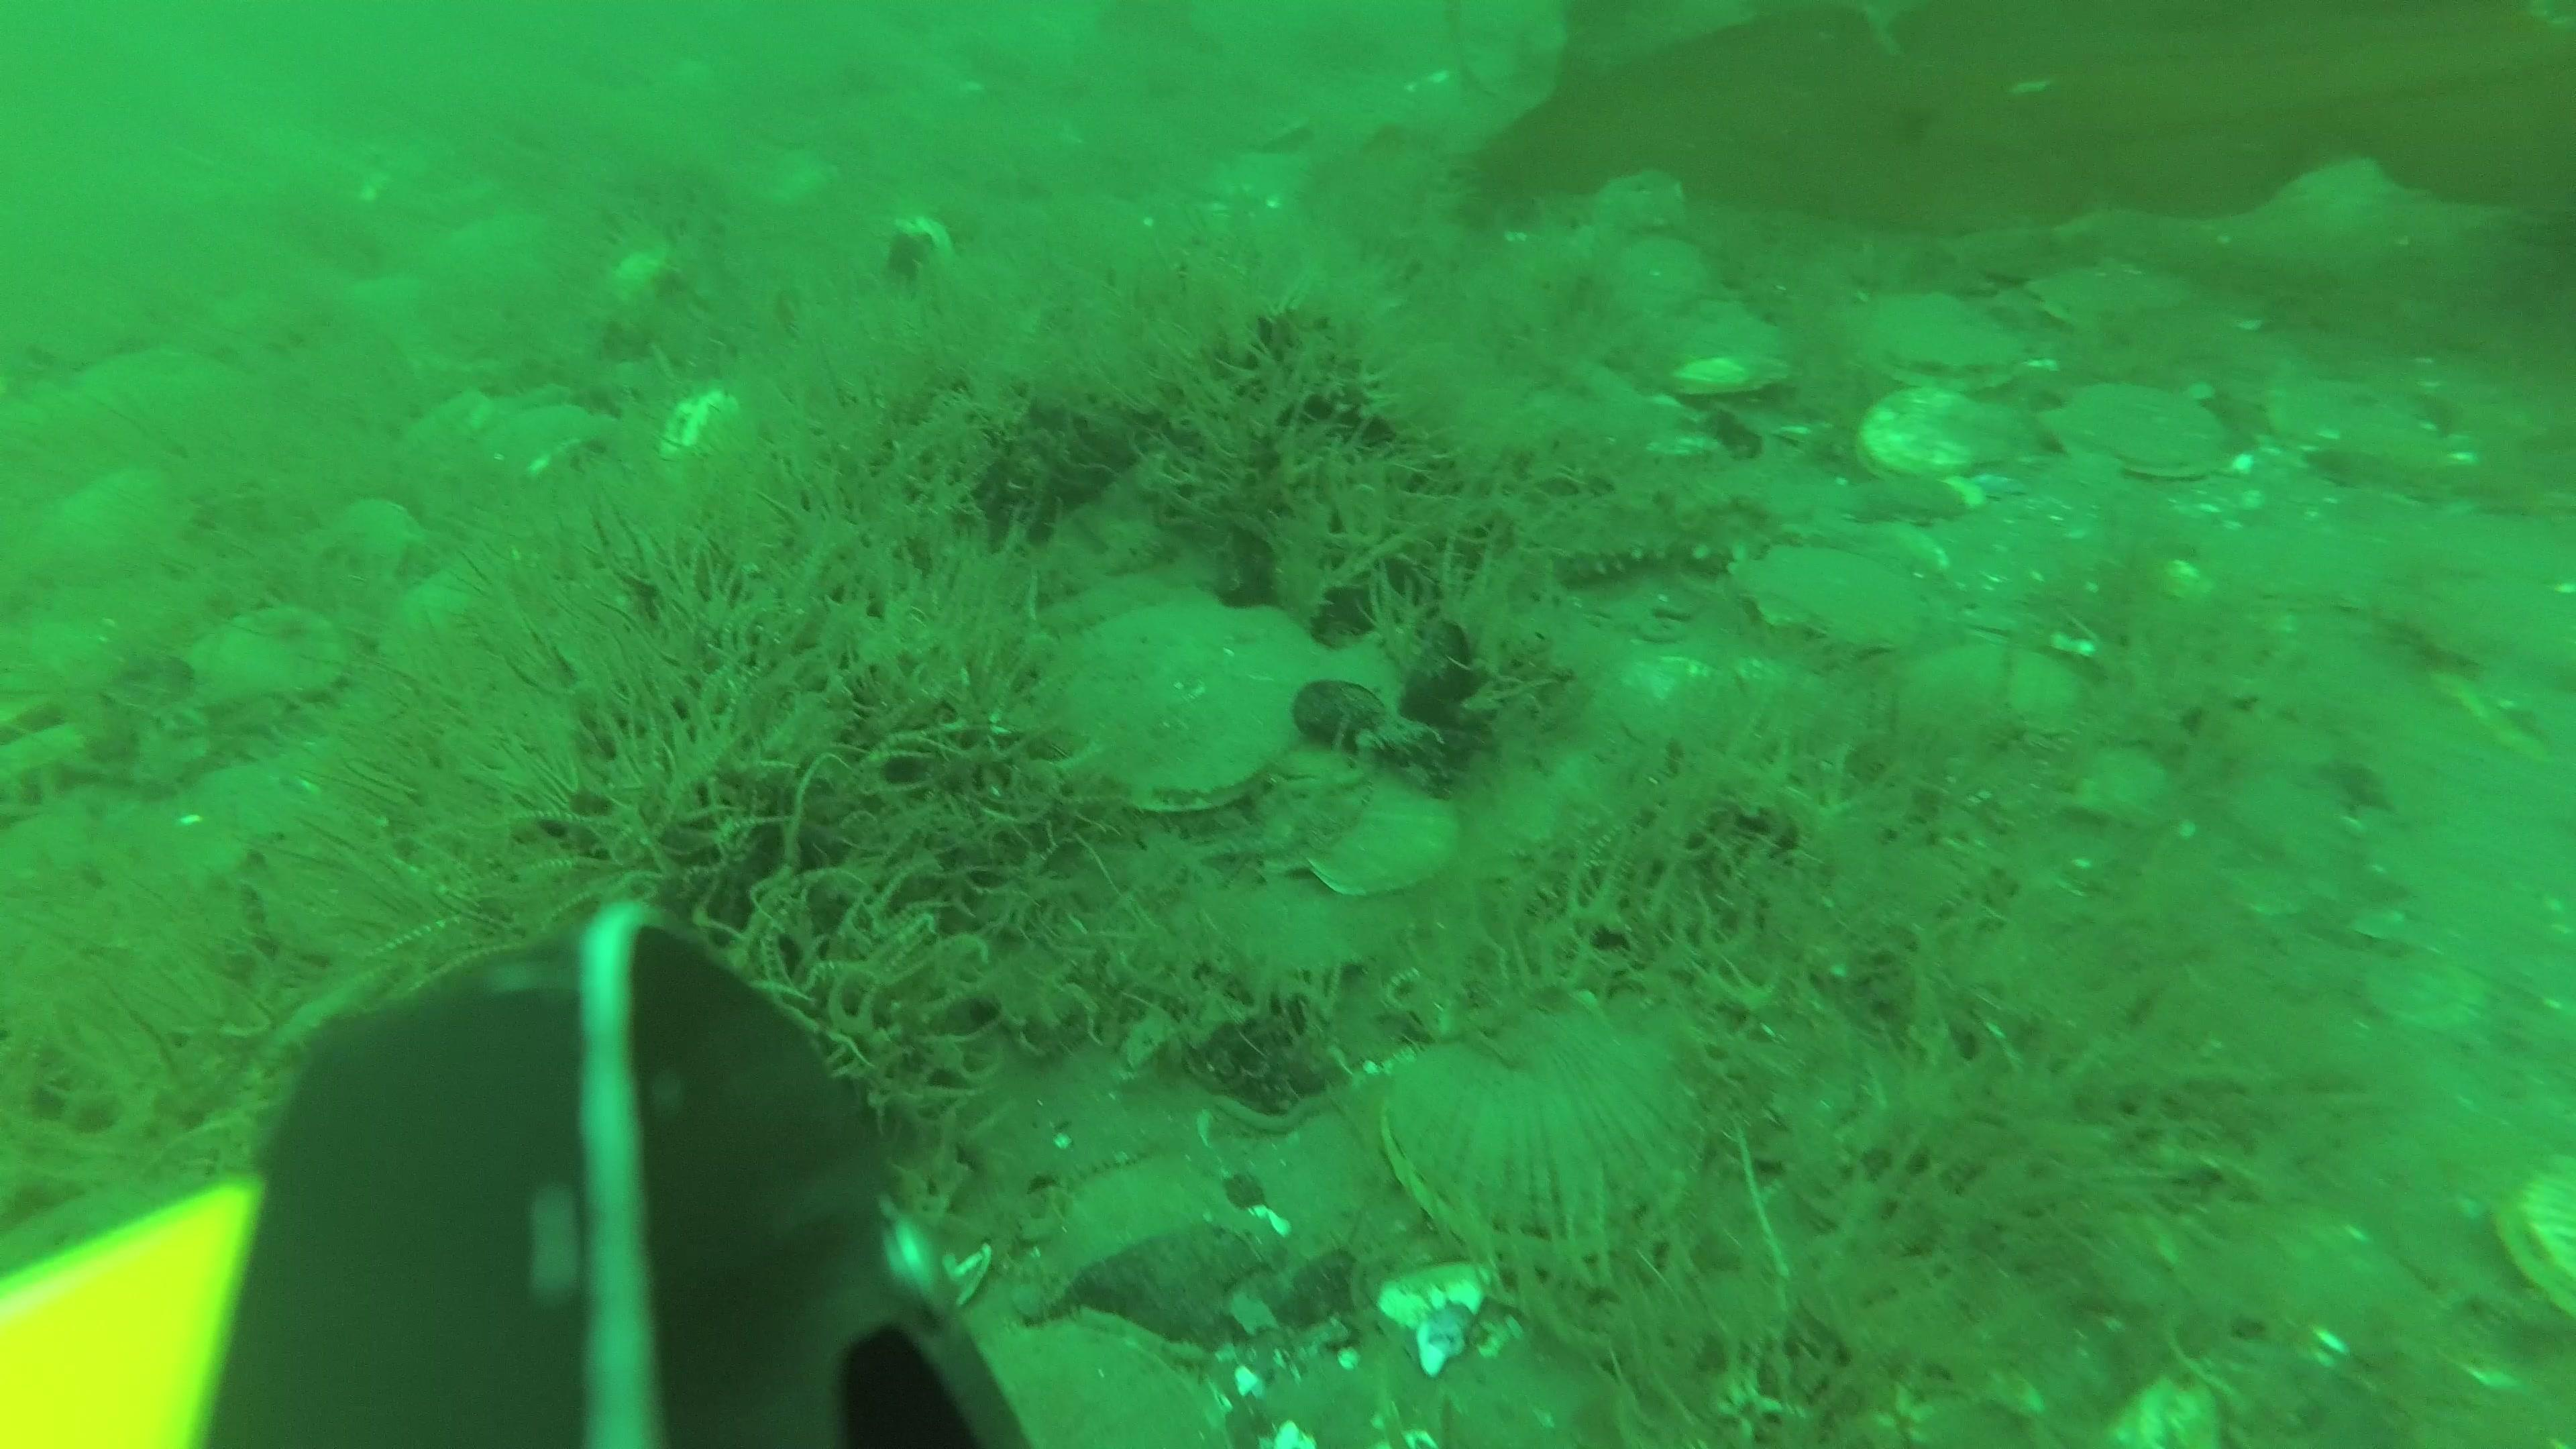holothurian: (1530, 487, 1782, 587)
scallop: (1382, 1008, 1716, 1251), (1060, 602, 1336, 809), (1030, 1146, 1284, 1323), (1247, 1092, 1453, 1299), (973, 1297, 1244, 1449), (1210, 849, 1398, 982), (1897, 637, 2086, 764), (1260, 653, 1414, 801), (1297, 777, 1458, 901), (1737, 536, 1916, 644), (2194, 517, 2388, 616), (179, 603, 350, 713), (1854, 389, 2029, 492), (2063, 373, 2219, 481), (1642, 283, 1789, 384), (1868, 292, 2013, 393), (308, 497, 437, 607), (2036, 244, 2185, 338), (444, 214, 571, 311), (2376, 941, 2489, 1046), (1592, 154, 1713, 241), (2065, 752, 2178, 826), (1614, 216, 1711, 301)
